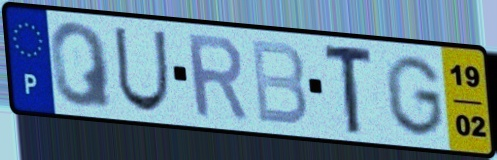B: (247, 37, 310, 128)
G: (382, 52, 447, 140)
Q: (47, 19, 117, 111)
R: (183, 31, 252, 124)
T: (322, 44, 376, 137)
U: (111, 23, 172, 114)
